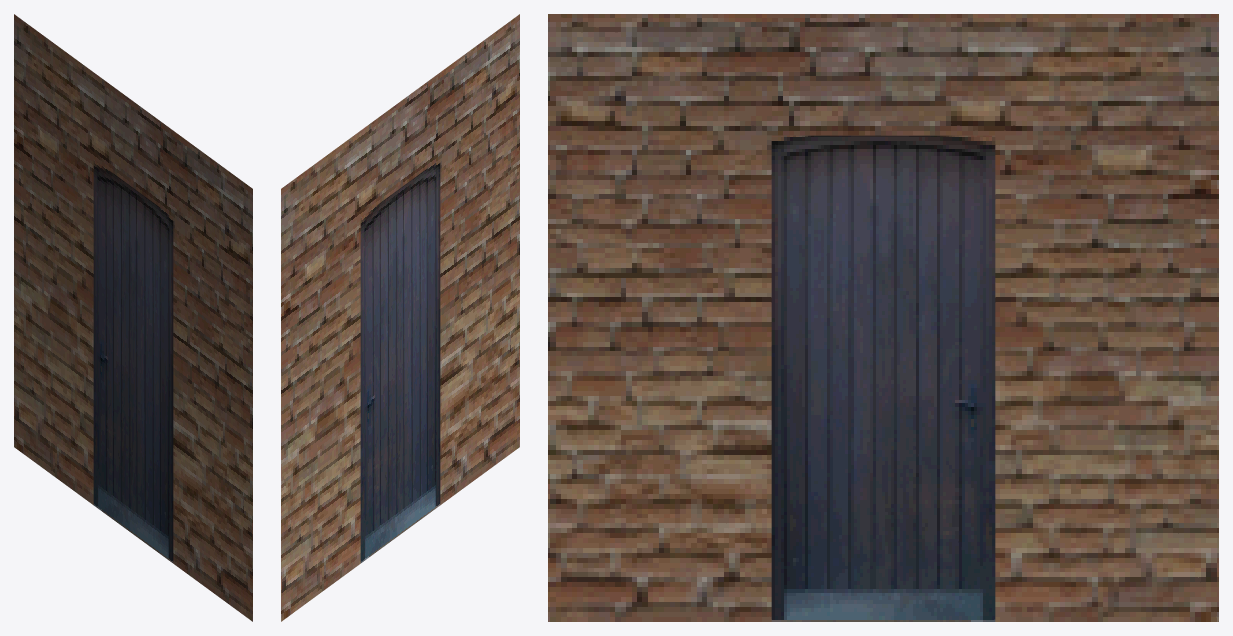
The model's file is brick_wall_door.glb.
The picture shows the model from 3 angles, left to right: view 1: azimuth 30°, elevation 25°; view 2: azimuth 150°, elevation 25°; view 3: azimuth 270°, elevation 25°; orthographic projection. The views are drawn at different scales.
Parts seen in each view (by area): view 1: brick_wall_door; view 2: brick_wall_door; view 3: brick_wall_door.
Boxes of the visible parts, x1=… form: brick_wall_door: x1=14, y1=14, x2=252, y2=621; brick_wall_door: x1=281, y1=14, x2=519, y2=621; brick_wall_door: x1=548, y1=14, x2=1218, y2=621.
Bounding box in the file's own units: 0 × 3 × 3.
1 material, 1 textured.
